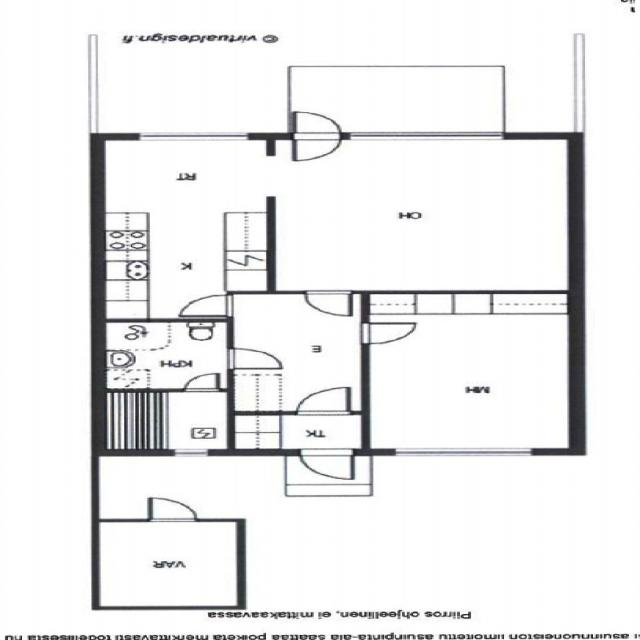door: (301, 448, 354, 483), (296, 383, 348, 415), (294, 108, 340, 140), (294, 133, 340, 164), (305, 290, 351, 319), (151, 495, 196, 522), (190, 295, 235, 316), (361, 323, 408, 343), (228, 348, 272, 368), (183, 370, 218, 392)
